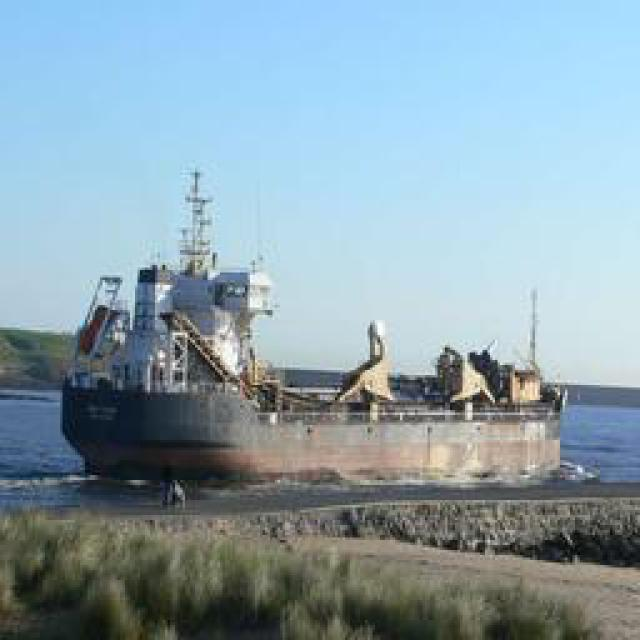Ship: (76, 160, 519, 488)
